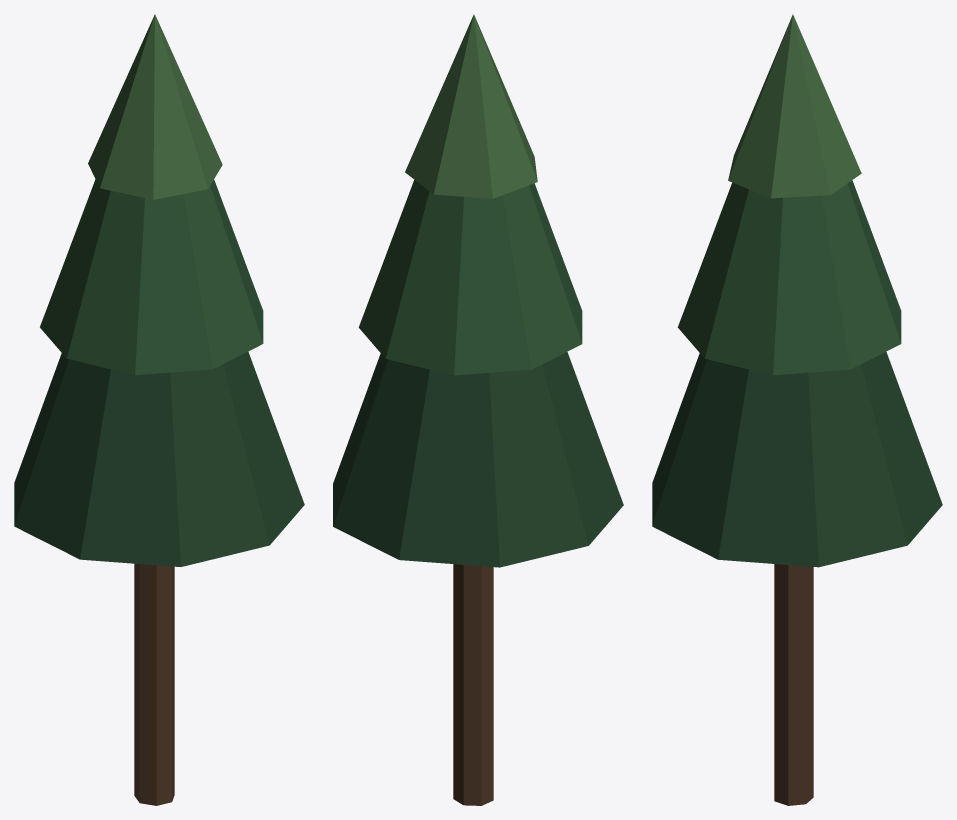
Rendered from pine_tree.obj.
3 views of the same model, side by side, from view 1: azimuth 30°, elevation 25°; view 2: azimuth 150°, elevation 25°; view 3: azimuth 270°, elevation 25° (orthographic).
Visible parts, largest first — view 1: body; view 2: body; view 3: body.
Boxes of the visible parts, x1,y1,x2,y2 form: body: (14,14,304,805); body: (333,14,623,805); body: (652,14,942,805).
Size of the model in its own units: 5.12 by 15 by 5.04.
